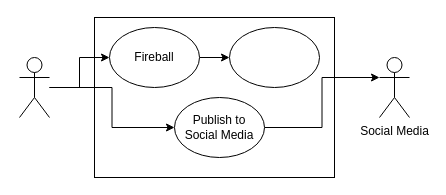
Image size: 446x195. Some labels were removed from this diagram. Here are the shapes that lost their labels. From the top down, the centre of each, then its label:
point (274, 57): Candle
point (34, 87): Player
